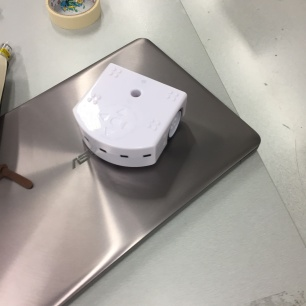thymio: (64, 60, 189, 171)
